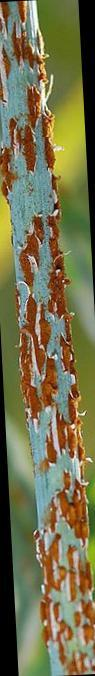Wheat: (0, 28, 95, 663)
